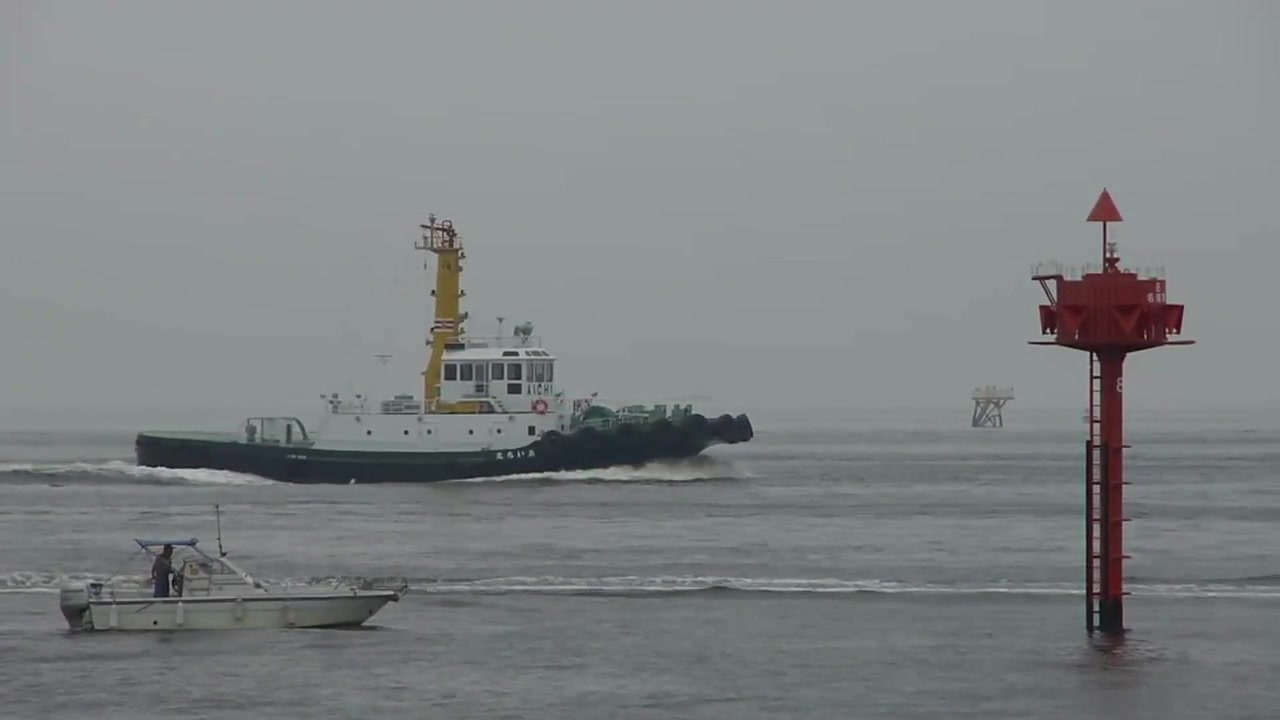boat: (132, 211, 759, 481)
